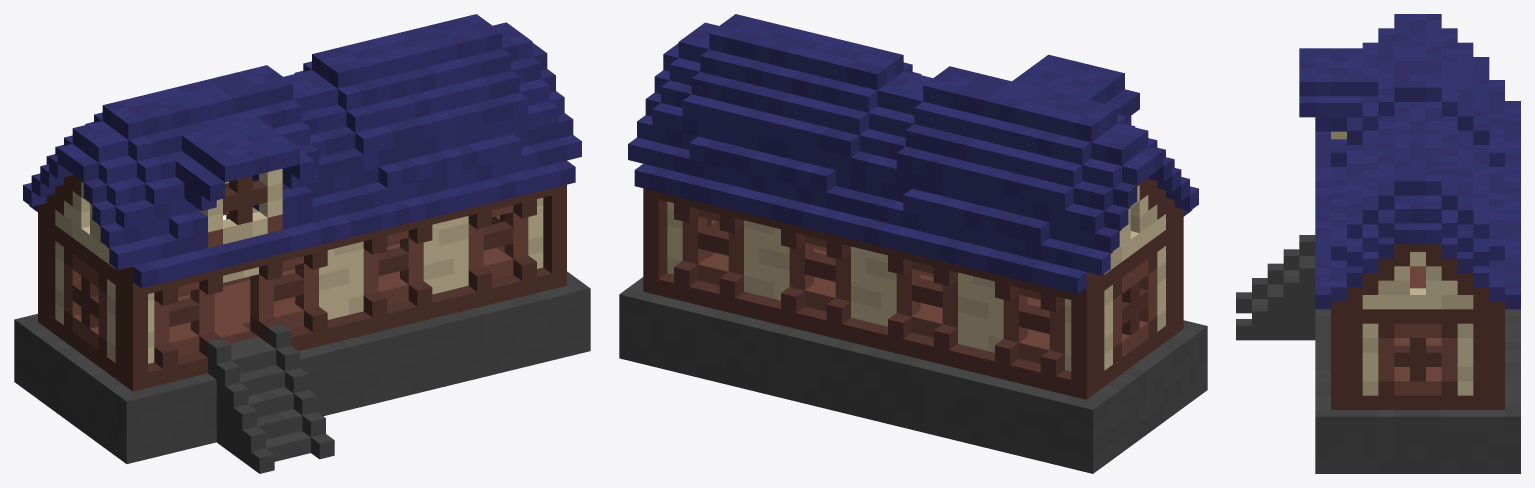
Rendered from house_2.obj.
3 renders of one model, left to right at view 1: azimuth 30°, elevation 25°; view 2: azimuth 150°, elevation 25°; view 3: azimuth 270°, elevation 25°, orthographic. The views are drawn at different scales.
Bounding box in the file's own units: 3.1 × 1.9 × 1.8.
Materials: 1 (1 with a texture image).
